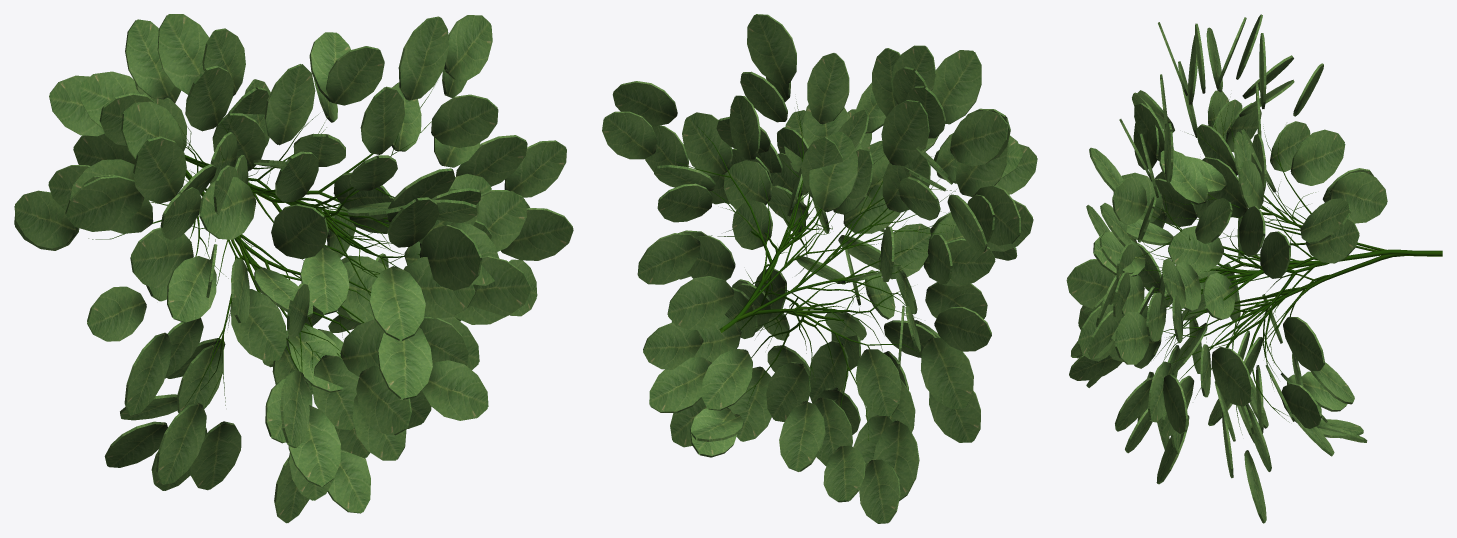
The model's file is plant22.obj.
3 views of the same model, side by side, from view 1: azimuth 30°, elevation 25°; view 2: azimuth 150°, elevation 25°; view 3: azimuth 270°, elevation 25° (orthographic). The views are drawn at different scales.
Parts seen in each view (by area): view 1: leaves.010, tree.010; view 2: leaves.010, tree.010; view 3: leaves.010, tree.010.
Boxes of the visible parts, bbox=[...] form: leaves.010: bbox=[14, 14, 573, 523]; tree.010: bbox=[88, 84, 435, 411]; leaves.010: bbox=[602, 14, 1037, 523]; tree.010: bbox=[672, 101, 959, 440]; leaves.010: bbox=[1066, 14, 1387, 523]; tree.010: bbox=[1134, 99, 1442, 434].
Size of the model in its own units: 0.4282 by 0.4348 by 0.3604.
Materials: 2 (2 with a texture image).
